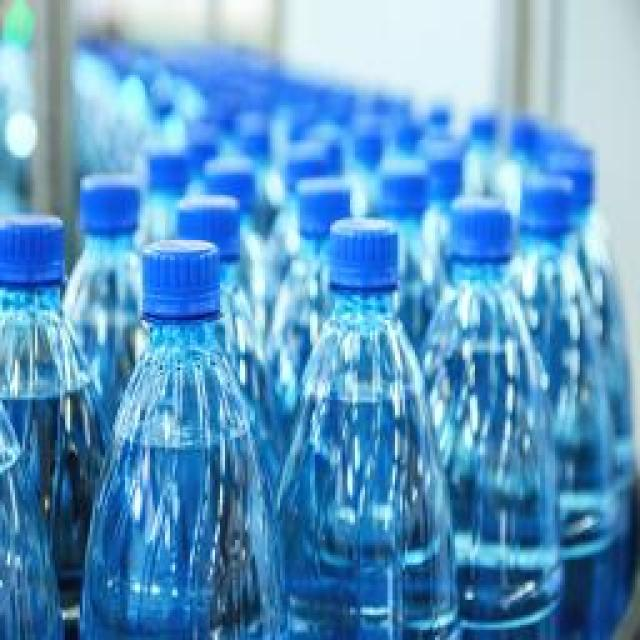bottle: (90, 242, 280, 640), (285, 222, 443, 640), (433, 196, 551, 640), (0, 215, 113, 640)
